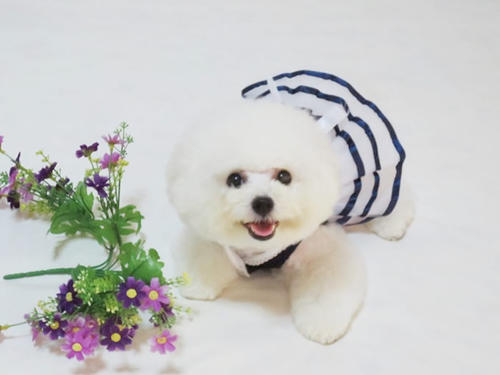dog: (156, 99, 353, 259)
